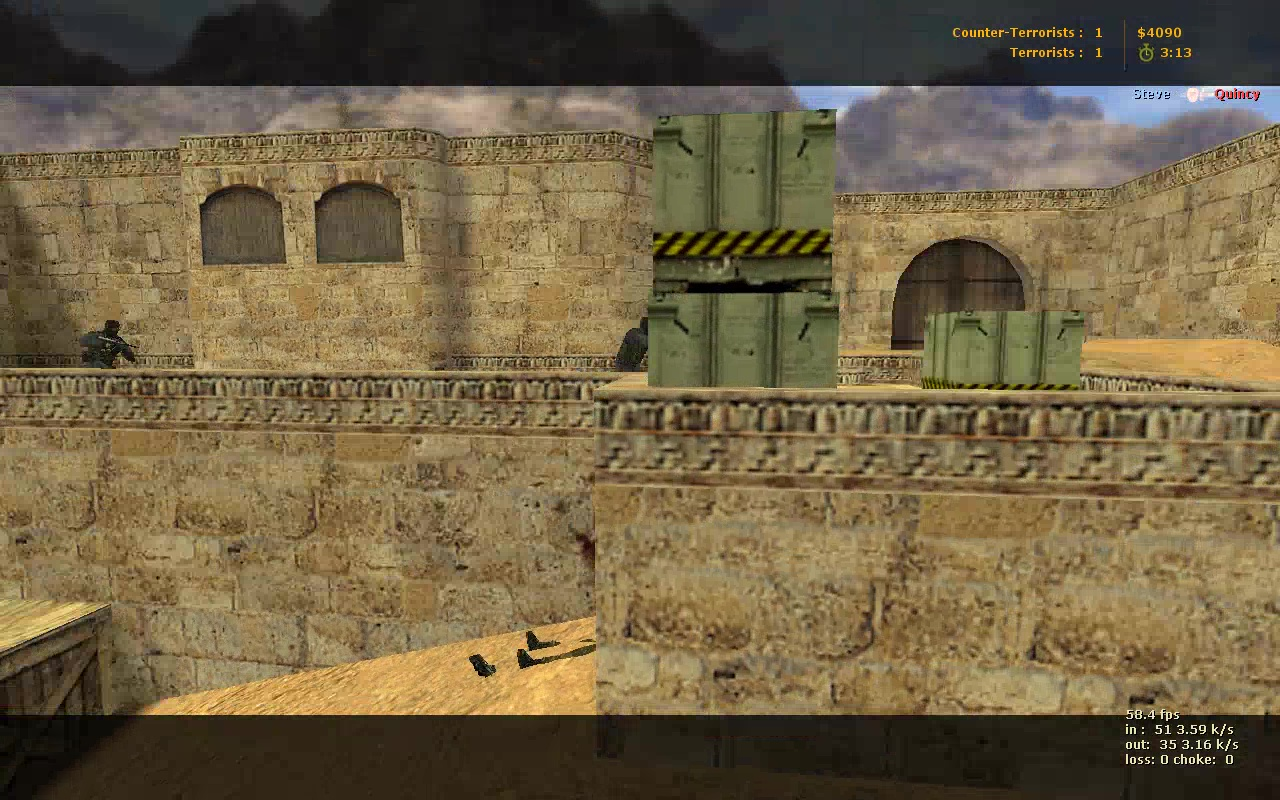ct: (79, 320, 136, 413)
